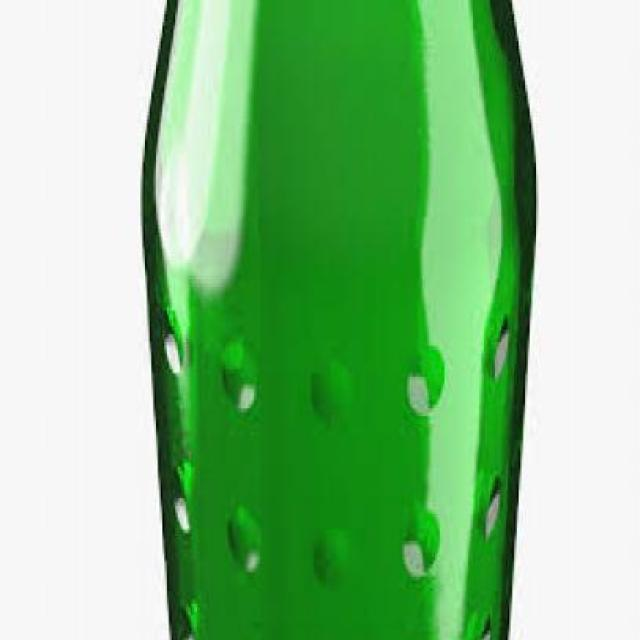kaca: (139, 0, 536, 640)
